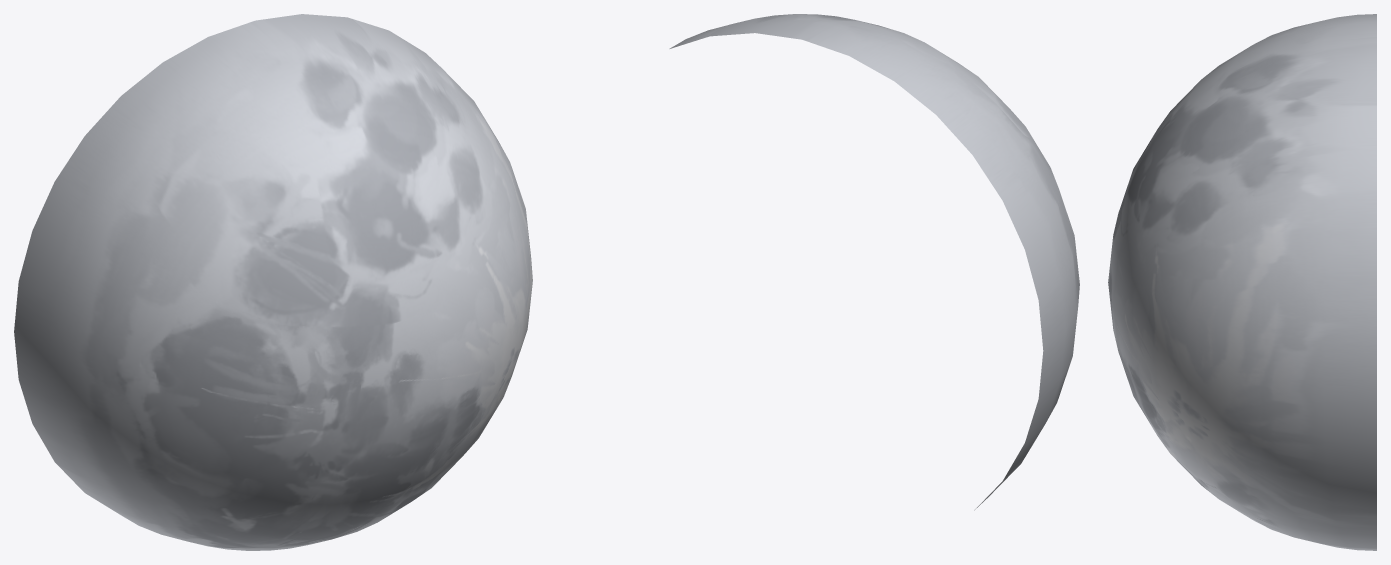
Rendered from moon_cool.glb.
The picture shows the model from 3 angles, left to right: view 1: azimuth 30°, elevation 25°; view 2: azimuth 150°, elevation 25°; view 3: azimuth 270°, elevation 25°; orthographic projection. The views are drawn at different scales.
Visible parts, largest first — view 1: Sphere; view 2: Sphere; view 3: Sphere.
Part boxes in pixels (bbox=[...]): Sphere: bbox=[14, 14, 532, 550]; Sphere: bbox=[669, 14, 1079, 510]; Sphere: bbox=[1108, 14, 1376, 550].
Bounding box in the file's own units: 2 × 2 × 1.
1 material, 1 textured.
